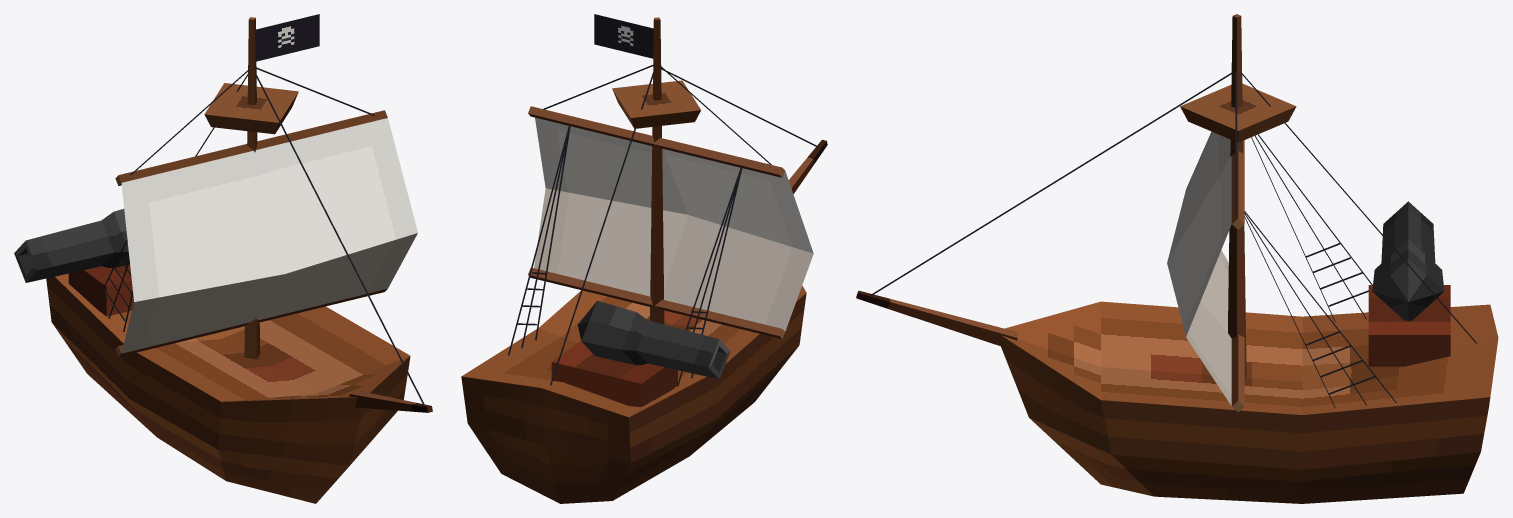
The model's file is bateau.fbx.
3 views of the same model, side by side, from view 1: azimuth 30°, elevation 25°; view 2: azimuth 150°, elevation 25°; view 3: azimuth 270°, elevation 25° (orthographic). The views are drawn at different scales.
Visible parts, largest first — view 1: boat, cloth, cannon.001, ropes; view 2: boat, cloth, cannon.001, ropes; view 3: boat, cloth, cannon.001, ropes.
Part boxes in pixels (box(x1,y1,x2,y2)): boat: box(46, 17, 432, 503); cloth: box(121, 14, 417, 353); cannon.001: box(14, 209, 129, 282); ropes: box(98, 67, 424, 405); boat: box(461, 17, 827, 503); cloth: box(534, 14, 813, 331); cannon.001: box(577, 300, 730, 379); ropes: box(508, 65, 818, 386); boat: box(856, 14, 1498, 503); cloth: box(1167, 131, 1231, 405); cannon.001: box(1372, 201, 1444, 321); ropes: box(870, 71, 1476, 407).
Bounding box in the file's own units: 218 × 322 × 394.
Materials: 1 (1 with a texture image).
